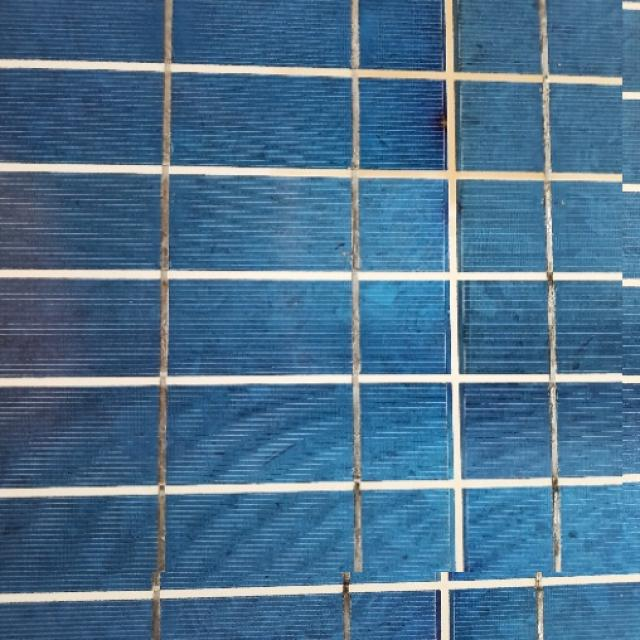Clean: (0, 0, 622, 572)
